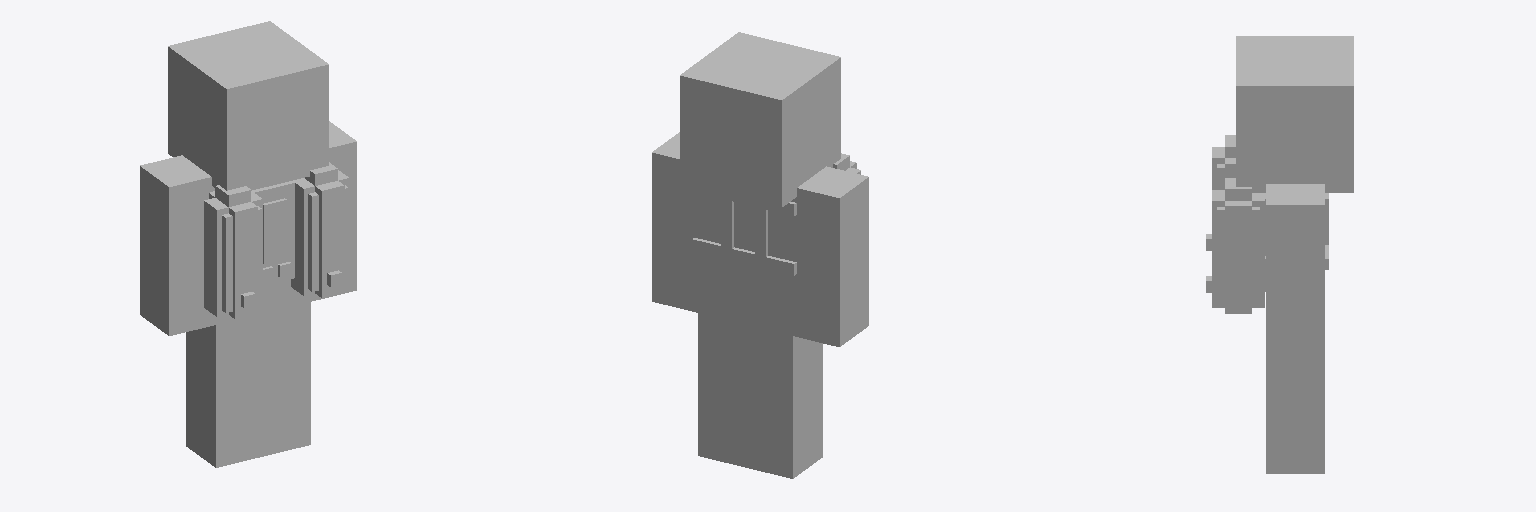
The model's file is simple_jetpack.obj.
3 renders of one model, left to right at view 1: azimuth 30°, elevation 25°; view 2: azimuth 150°, elevation 25°; view 3: azimuth 270°, elevation 25°, orthographic.
Visible parts, largest first — view 1: Hat Layer, cube, Left Arm Layer, Left Leg Layer, Right Leg Layer, Right Arm Layer, Body Layer; view 2: Hat Layer, Left Arm Layer, Left Leg Layer, Body Layer, Right Arm Layer, Right Leg Layer, cube; view 3: Hat Layer, Right Arm Layer, cube, Right Leg Layer.
Boxes of the visible parts, <box> form: Hat Layer: <box>168,21,328,190</box>; cube: <box>204,162,348,318</box>; Left Arm Layer: <box>140,155,214,335</box>; Left Leg Layer: <box>186,309,266,467</box>; Right Leg Layer: <box>259,296,310,457</box>; Right Arm Layer: <box>311,121,356,300</box>; Body Layer: <box>215,279,311,324</box>; Hat Layer: <box>680,32,840,207</box>; Left Arm Layer: <box>792,166,868,346</box>; Left Leg Layer: <box>742,318,822,478</box>; Body Layer: <box>697,194,793,335</box>; Right Arm Layer: <box>652,132,702,312</box>; Right Leg Layer: <box>698,307,749,467</box>; cube: <box>692,153,860,275</box>; Hat Layer: <box>1236,36,1353,192</box>; Right Arm Layer: <box>1266,184,1324,353</box>; cube: <box>1206,135,1328,313</box>; Right Leg Layer: <box>1266,354,1324,473</box>.
Size of the model in its own units: 1.03 by 2.05 by 0.7063.